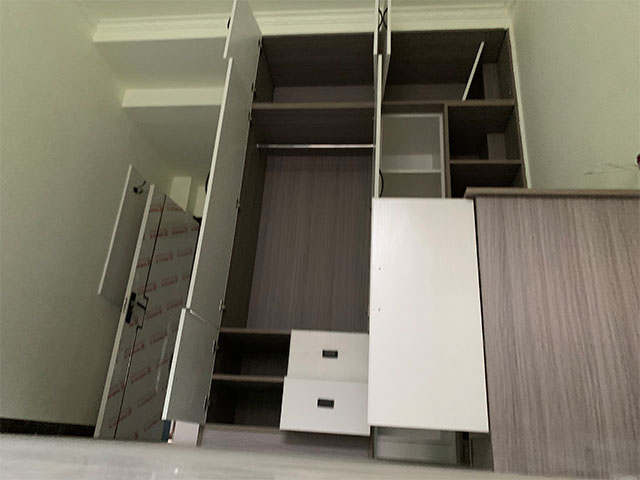cabinet: (464, 183, 640, 480), (160, 313, 371, 480)
